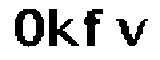0: (12, 3, 46, 53)
f: (83, 7, 108, 49)
k: (48, 4, 80, 51)
v: (113, 15, 147, 50)
